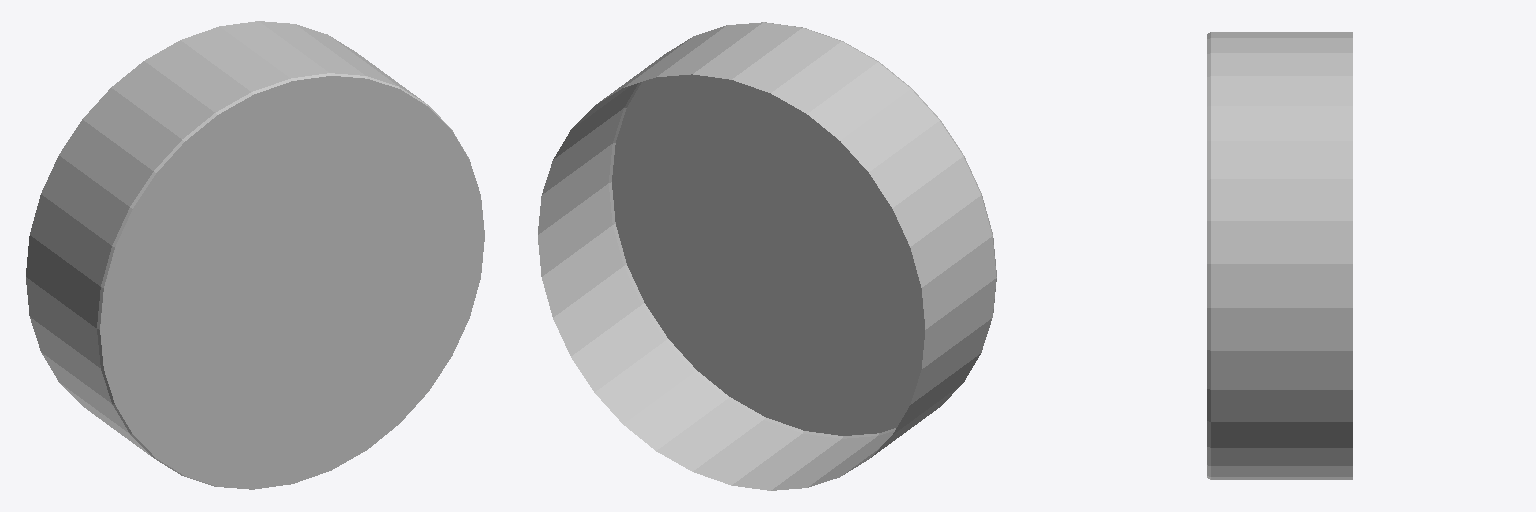
Rendered from dot.obj.
3 views of the same model, side by side, from view 1: azimuth 30°, elevation 25°; view 2: azimuth 150°, elevation 25°; view 3: azimuth 270°, elevation 25° (orthographic).
Parts seen in each view (by area): view 1: Dot; view 2: Dot; view 3: Dot.
Part boxes in pixels (left/top/right/bottom): Dot: left=26, top=21, right=484, bottom=489; Dot: left=538, top=22, right=996, bottom=490; Dot: left=1207, top=32, right=1352, bottom=479.
Size of the model in its own units: 0.0944 by 0.0944 by 0.0308.